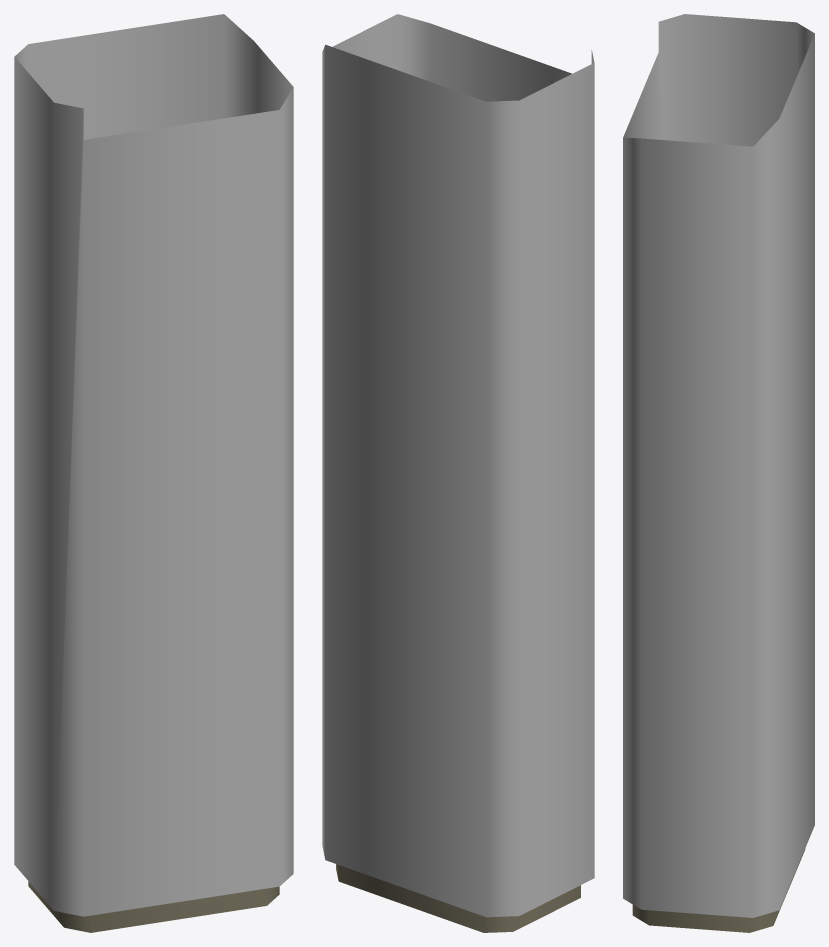
The picture shows the model from 3 angles, left to right: view 1: azimuth 30°, elevation 25°; view 2: azimuth 150°, elevation 25°; view 3: azimuth 270°, elevation 25°; orthographic projection. The views are drawn at different scales.
Parts seen in each view (by area): view 1: Joint_0_Object_0, Joint_0_Object_1; view 2: Joint_0_Object_0, Joint_0_Object_1; view 3: Joint_0_Object_0, Joint_0_Object_1.
Boxes of the visible parts, x1=… form: Joint_0_Object_0: x1=14, y1=14, x2=293, y2=916; Joint_0_Object_1: x1=28, y1=881, x2=279, y2=932; Joint_0_Object_0: x1=322, y1=14, x2=594, y2=917; Joint_0_Object_1: x1=336, y1=864, x2=580, y2=932; Joint_0_Object_0: x1=623, y1=14, x2=814, y2=917; Joint_0_Object_1: x1=632, y1=849, x2=805, y2=932.
Size of the model in its own units: 117 by 395 by 84.56.
